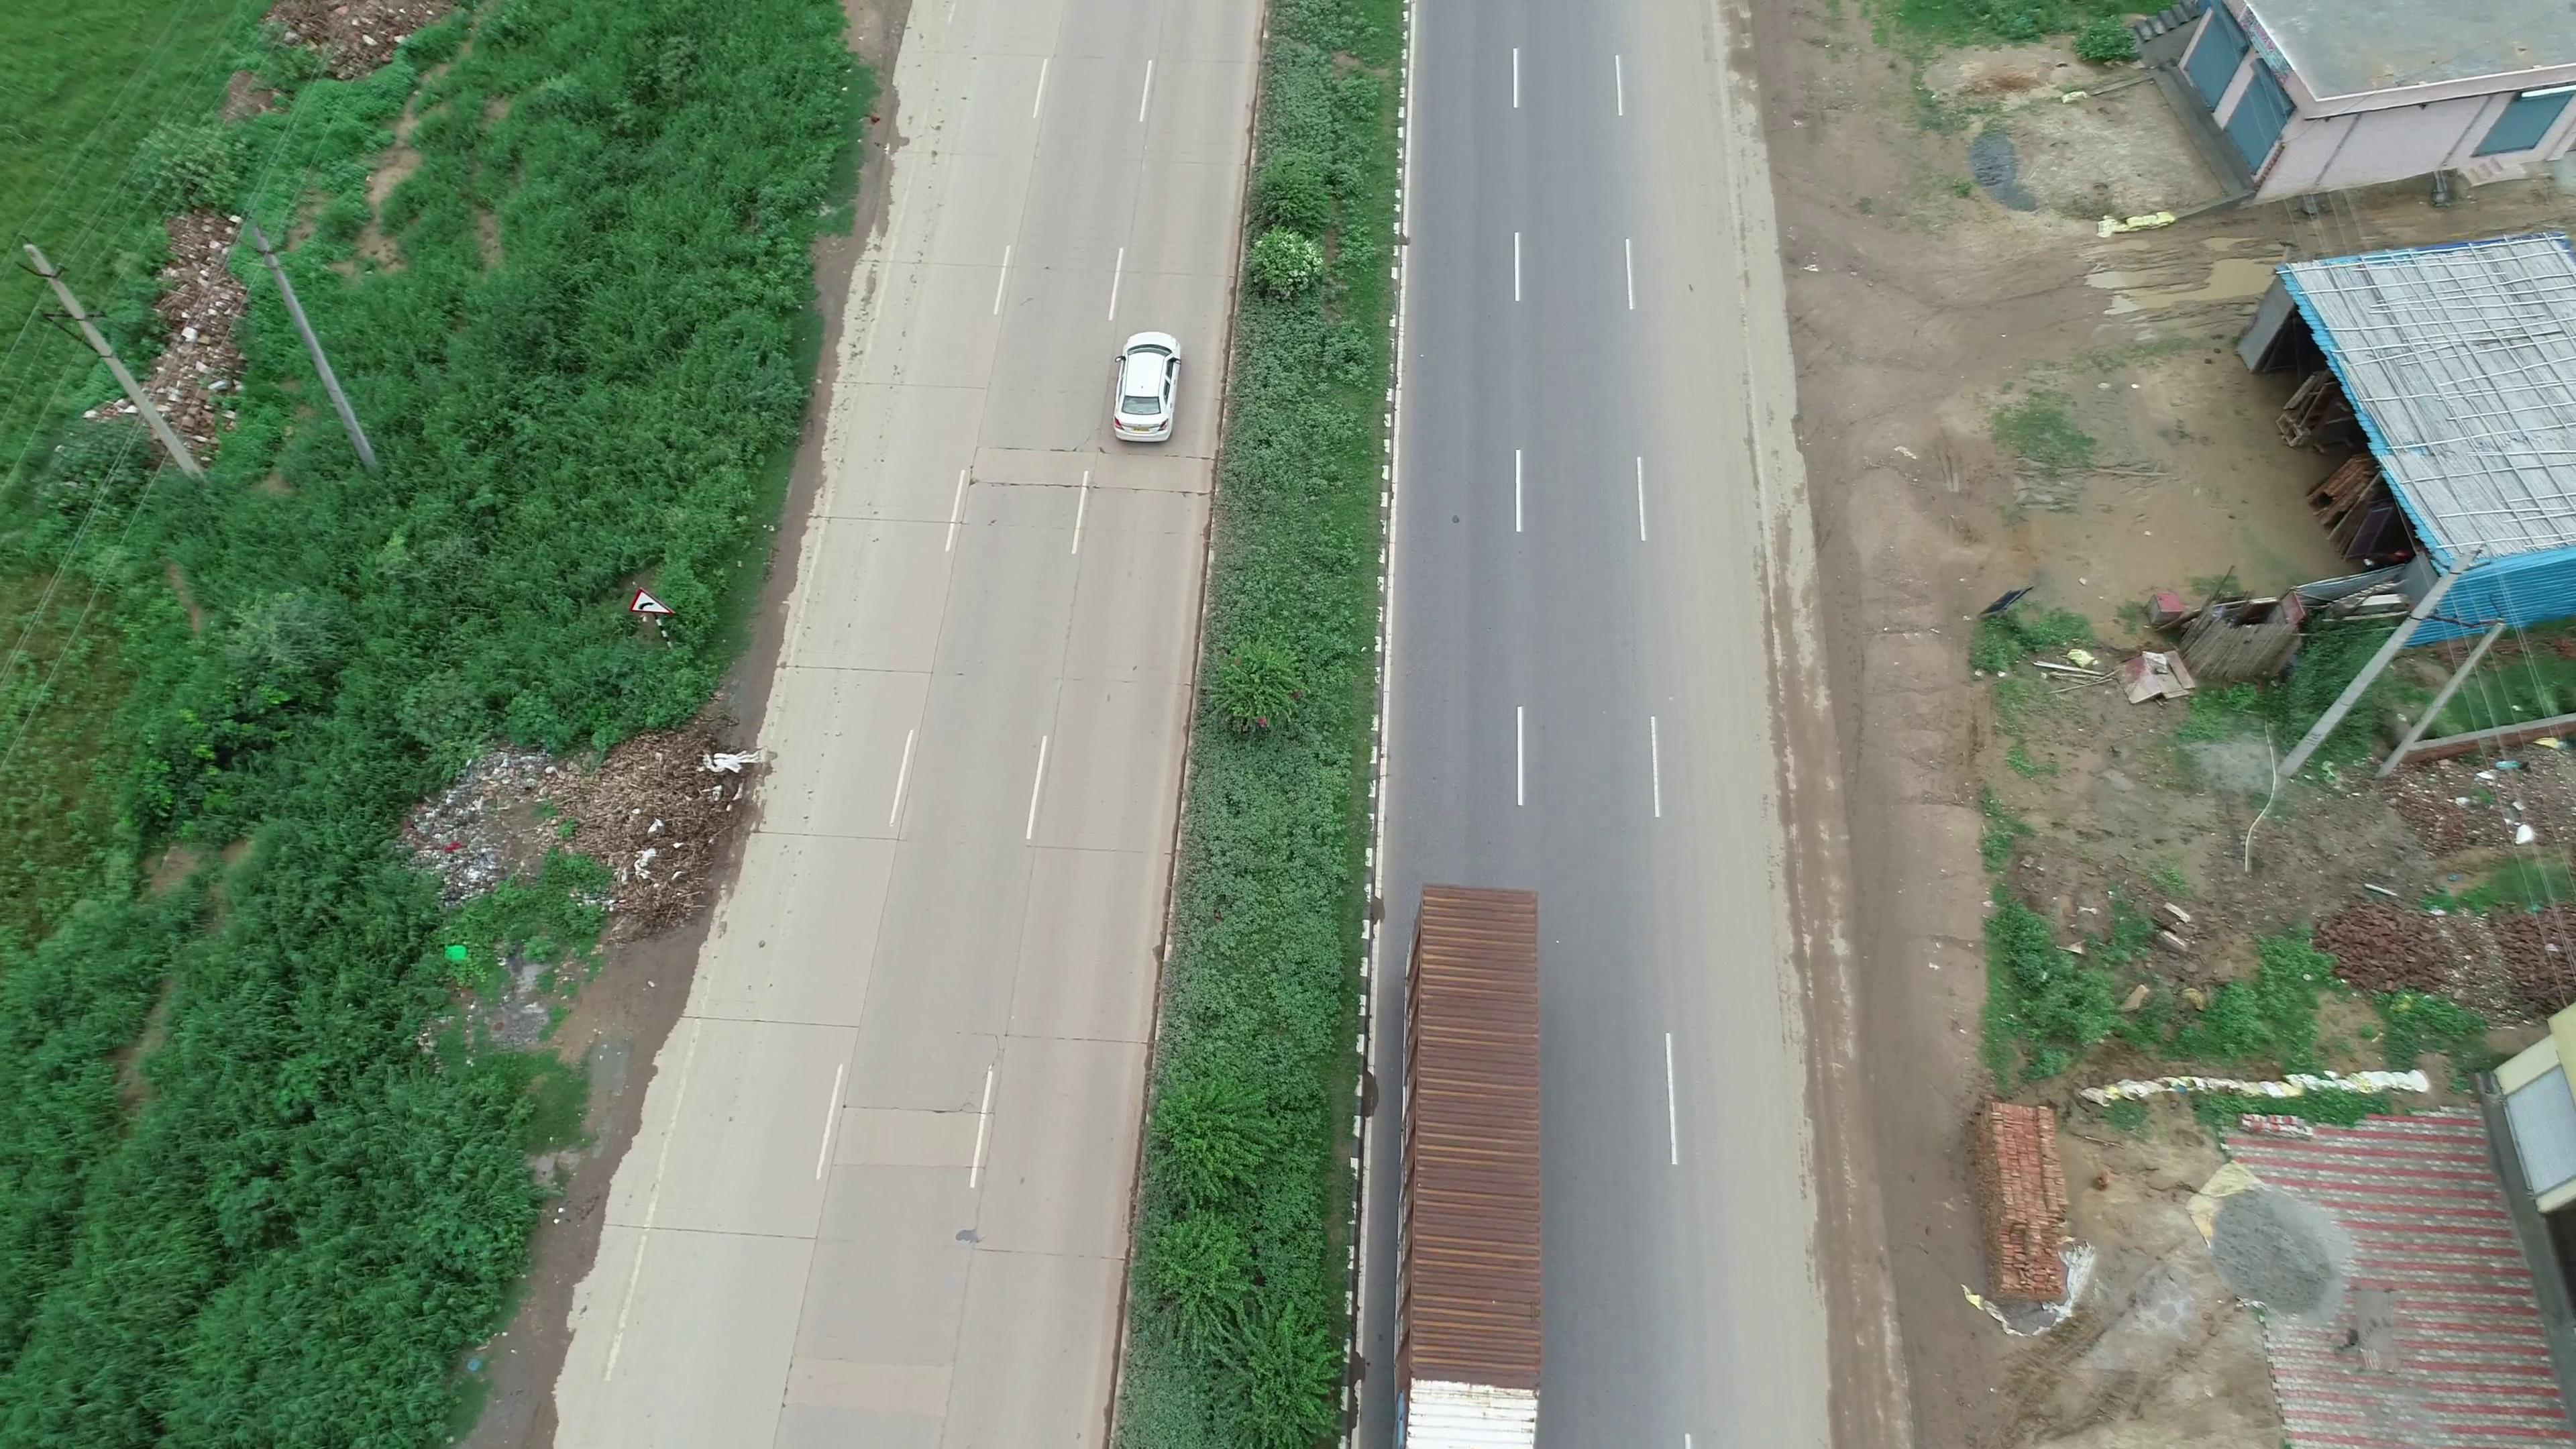Road_side_garbage: (522, 704, 754, 955)
